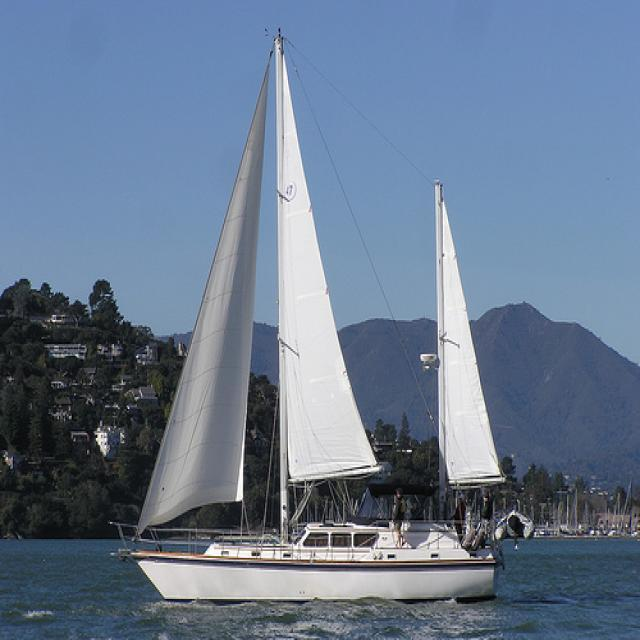Ship: (124, 32, 516, 609)
